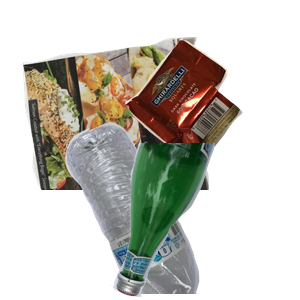glass: (109, 143, 300, 300)
paper: (20, 34, 221, 214)
plastic: (63, 120, 263, 300)
trash: (123, 37, 300, 192)
